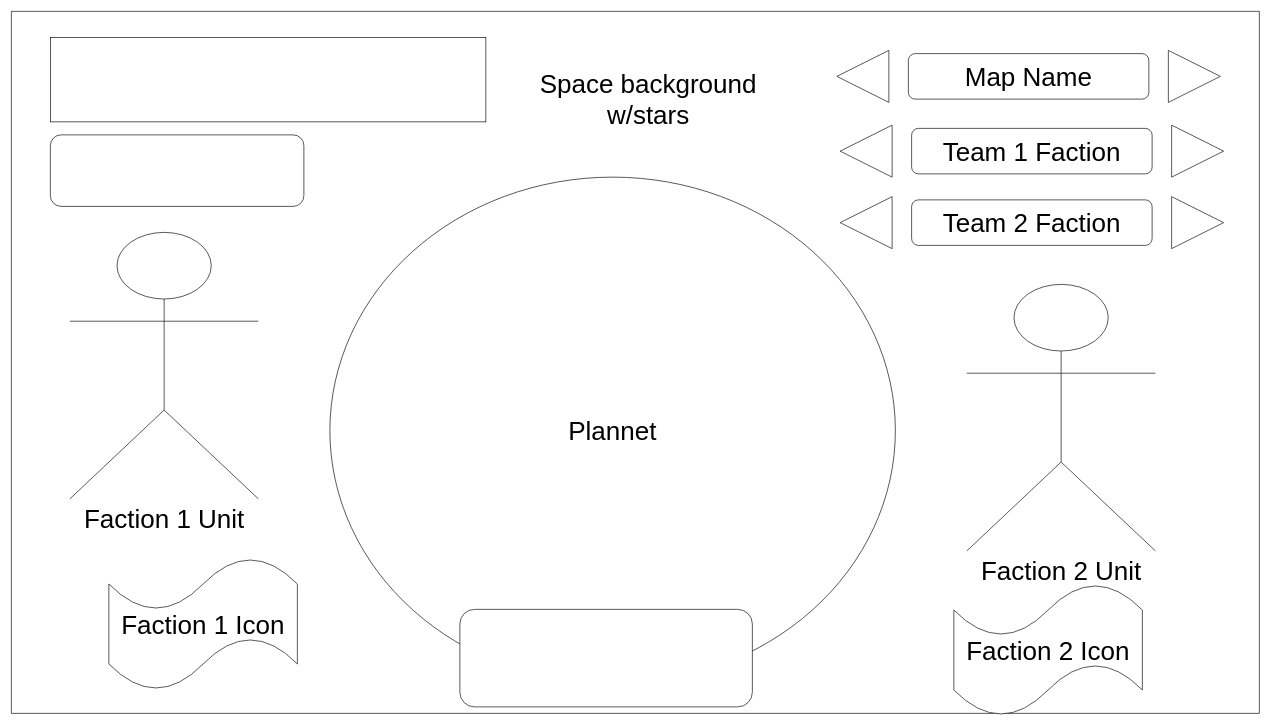
This 1271x728 diagram has some shape labels left out. Here are the shapes that lost their labels. From the top down, the centre of each, then its label:
At (268,79): "Skirmish - Select Map and Teams".
At (177,170): "Load Ongoing Skirmish Button".
At (605,658): "Confirm Button (only visible after selections)".
